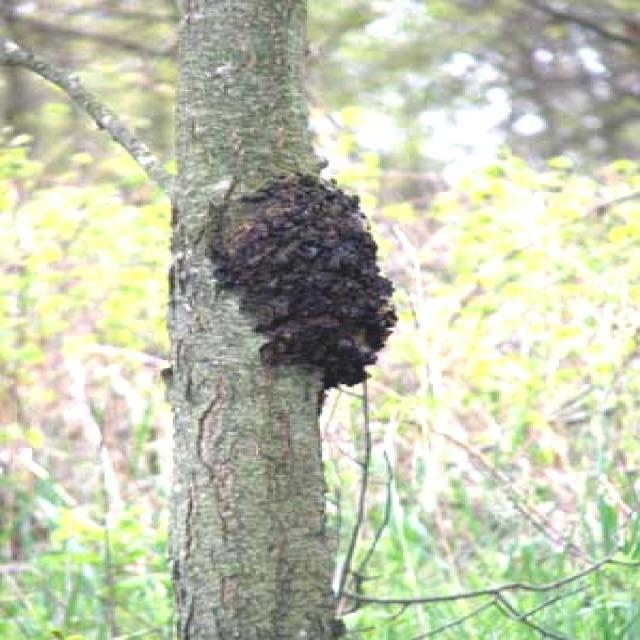Black_knot: (203, 170, 399, 388)
